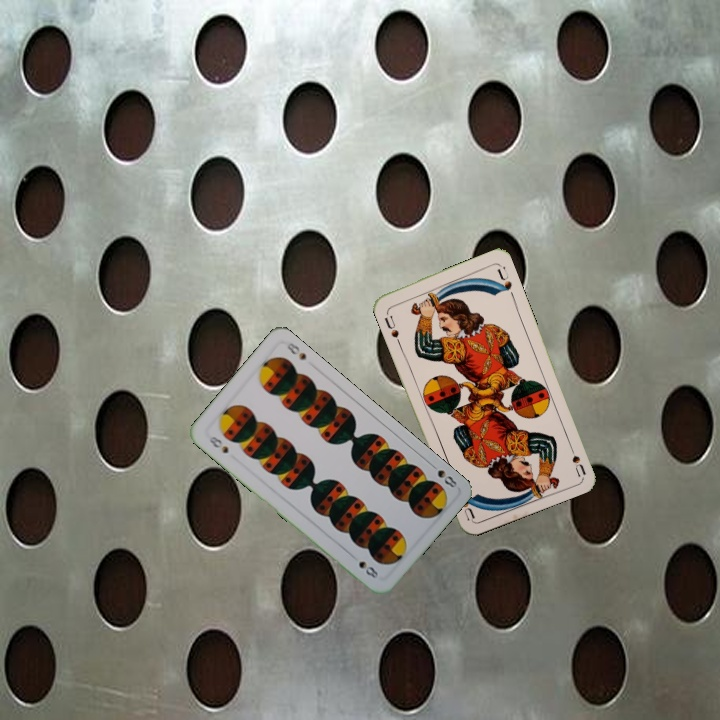S8: (425, 459, 459, 490), (203, 432, 231, 456)
SU: (564, 438, 588, 478), (380, 311, 402, 340)
